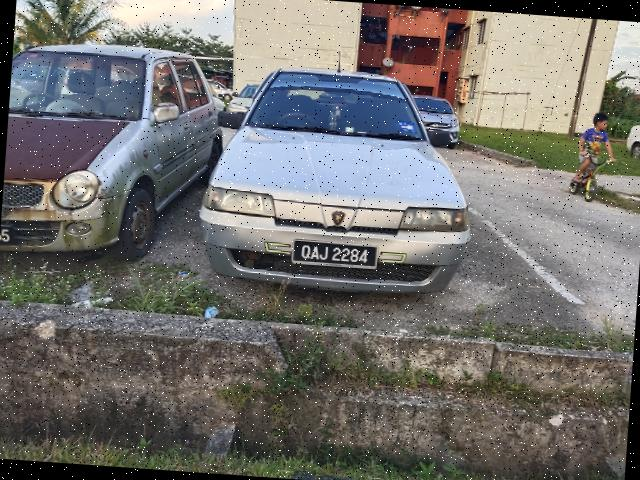License_Plate: (292, 241, 379, 271)
car: (194, 57, 478, 299)
